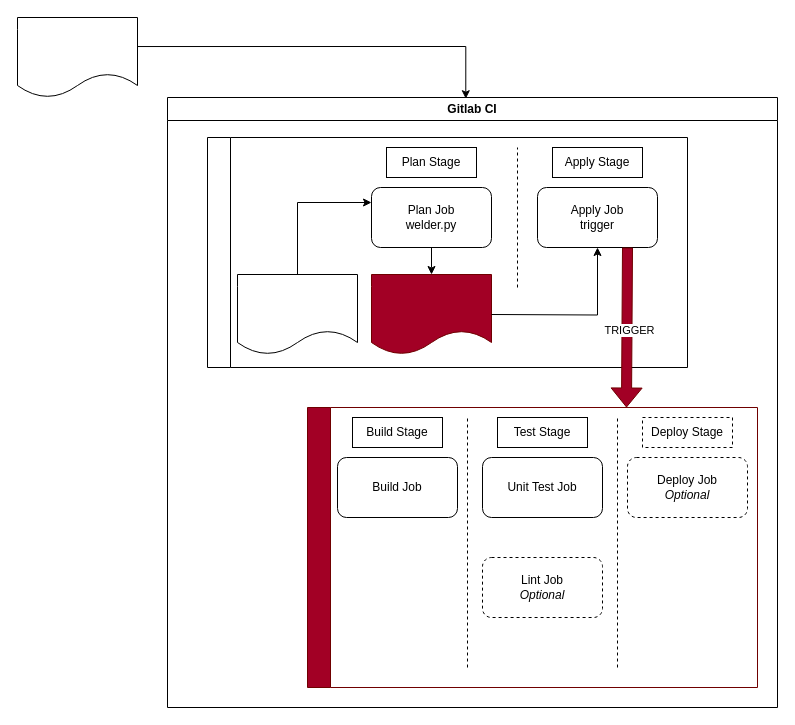
The diagram is 795 pixels wide and 725 high, and some of its shapes have lost their labels. The shapes that lost their labels are listed below. From the top down, each one's box as (x1, y1, x2, y2) in pixels, then its label:
(16, 16, 138, 98): .gitlab-ci.yml
(206, 136, 688, 368): PARENT PIPELINE
(236, 274, 358, 354): templates/ jinja_sample.txt
(370, 274, 492, 354): generated_pipeline.yml
(306, 406, 758, 688): CHILD PIPELINE
